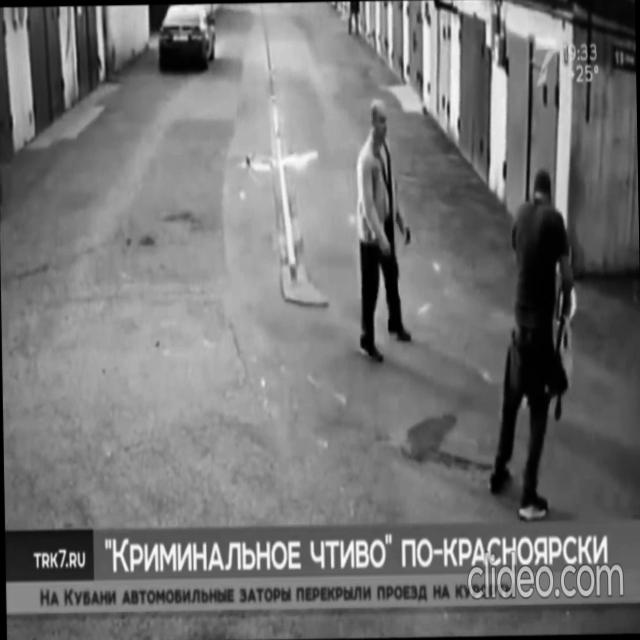gun: (386, 237, 398, 276)
person: (484, 168, 578, 520)
person with a gun: (350, 93, 412, 364)
